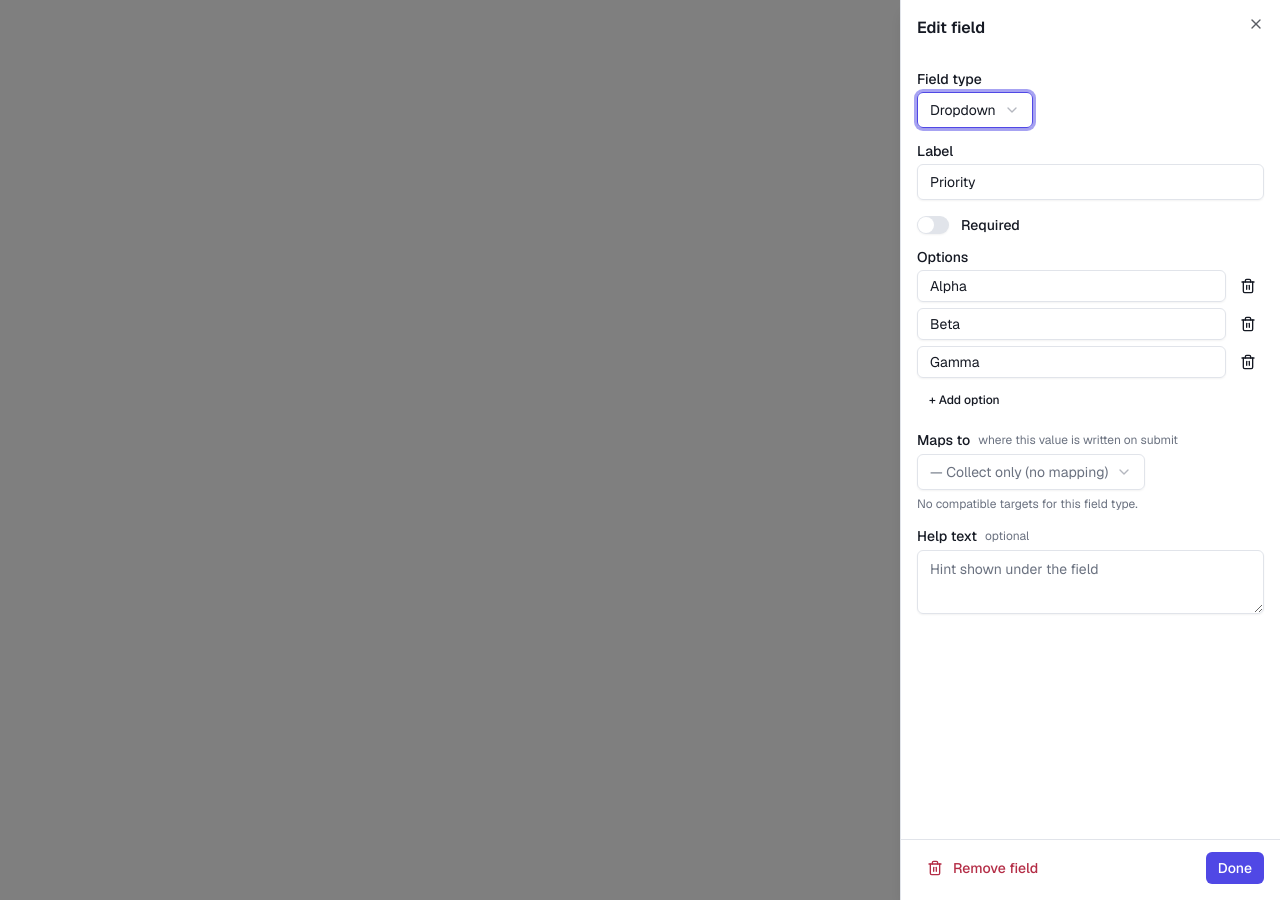
Test: FieldConfigSheet — OptionsEditor stable keys › after deleting the middle option, remaining inputs show original values
Expected: the 1st field showing "Alpha" is shown, [917,270,1226,302]
Expected: the 2nd field showing "Beta" is shown, [917,308,1226,340]
Click the 2nd button named "remove option": (1248, 324) [1232,308,1264,340]
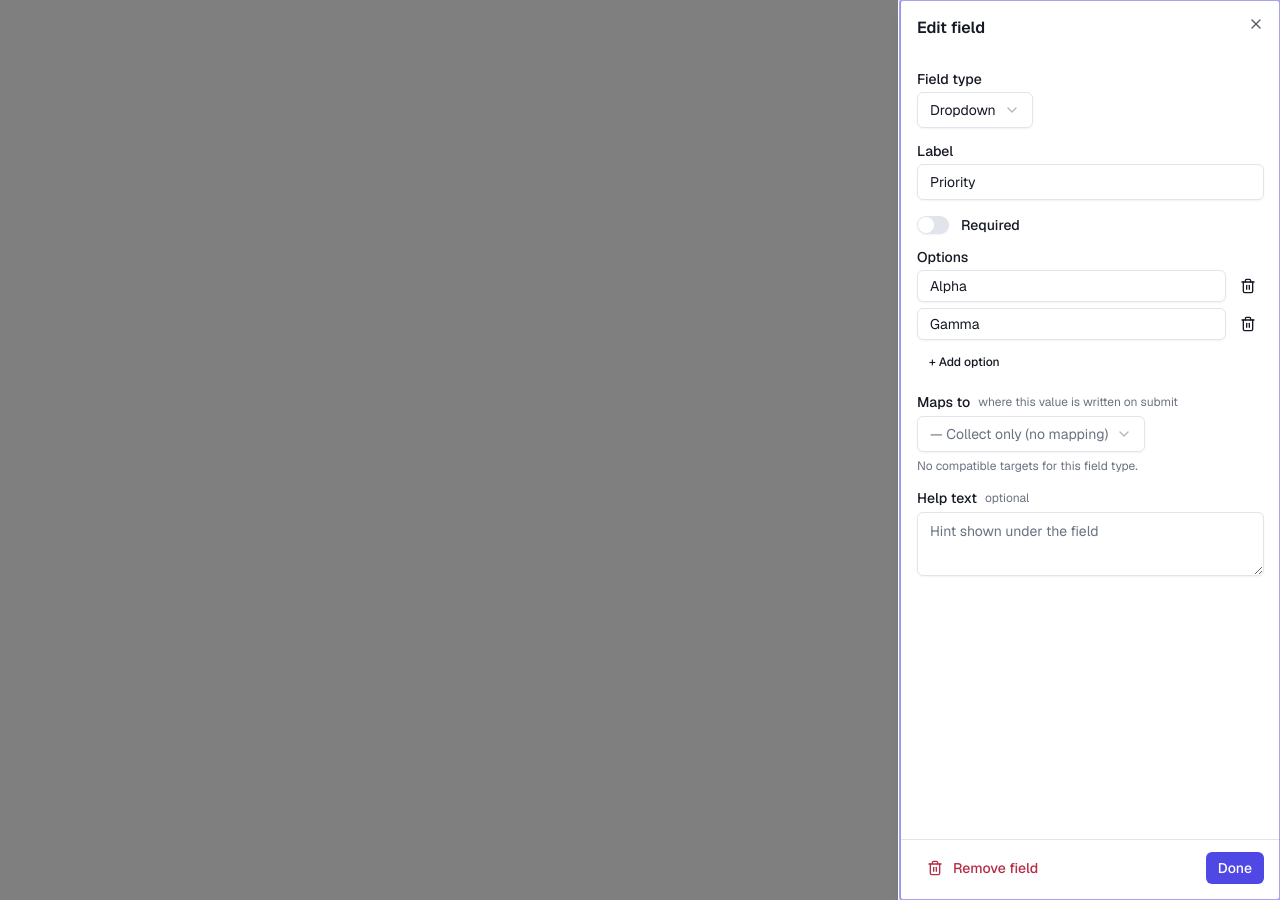
Expected: the field showing "Beta" is not shown
Expected: the number of buttons named "remove option" is 2, [1232,270,1264,302]; [1232,308,1264,340]
